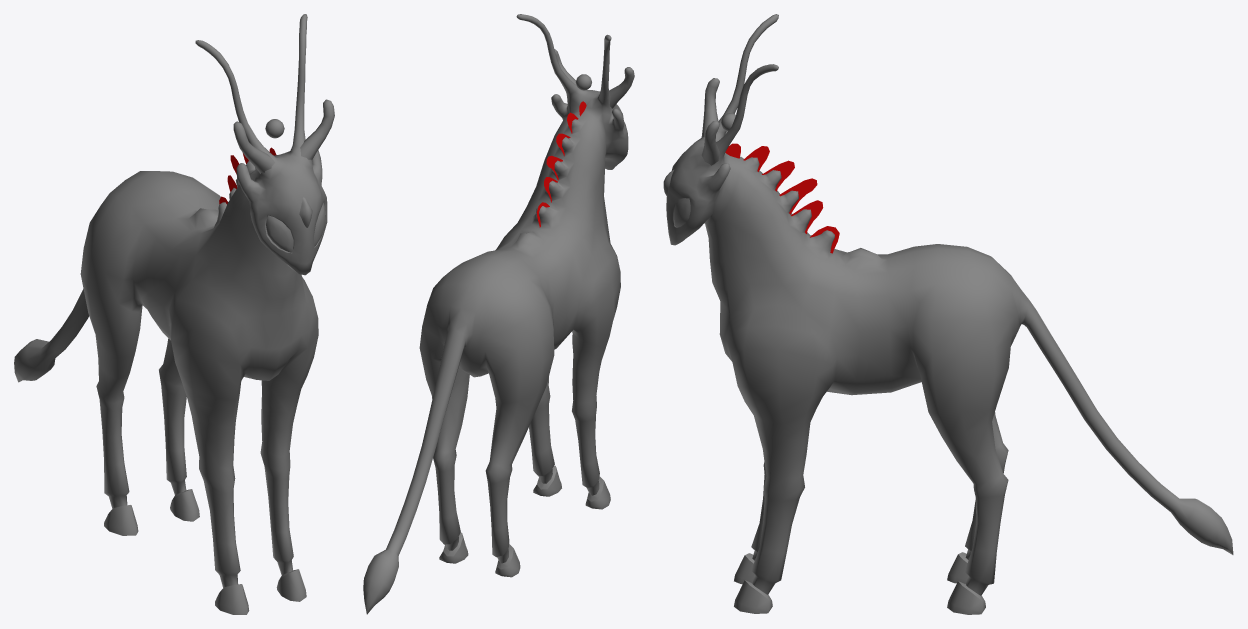
Rendered from BossSpirit.fbx.
The picture shows the model from 3 angles, left to right: view 1: azimuth 30°, elevation 25°; view 2: azimuth 150°, elevation 25°; view 3: azimuth 270°, elevation 25°; orthographic projection. The views are drawn at different scales.
Parts seen in each view (by area): view 1: Boss; view 2: Boss; view 3: Boss.
Part boxes in pixels (x1,y1,x2,y2): Boss: (14,14,334,614); Boss: (363,14,634,614); Boss: (663,14,1233,614).
Size of the model in its own units: 50.87 by 197 by 184.
